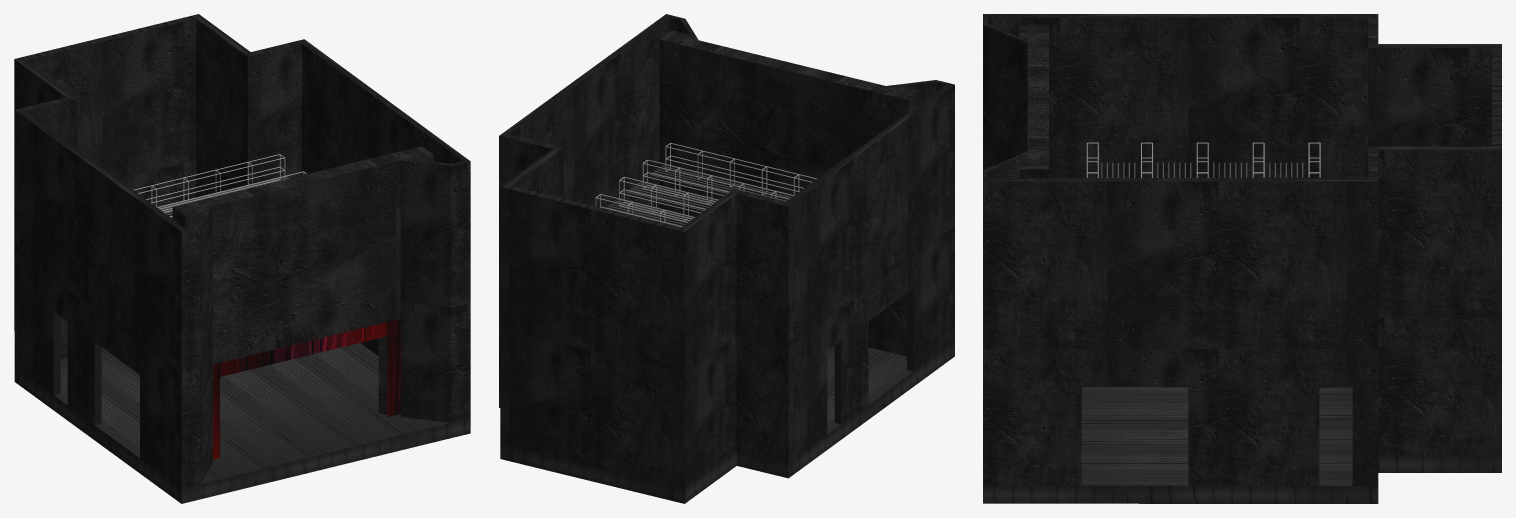
Rendered from theatre-stage.glb.
The picture shows the model from 3 angles, left to right: view 1: azimuth 30°, elevation 25°; view 2: azimuth 150°, elevation 25°; view 3: azimuth 270°, elevation 25°; orthographic projection. The views are drawn at different scales.
Parts seen in each view (by area): view 1: rest -3 0, rest 0 2, rest -1 2, floor -2 1, rest 2 3, rest -1 -4, rest 1 2, rest 0 -4, rest 2 -1, rest -3 1, rest -3 2, rest 1 -3 (+23 smaller); view 2: rest -1 -4, rest 0 -4, rest -3 0, rest -3 -3, rest -1 2, rest -3 2, rest -3 1, rest 2 -1, rest 0 2, rest -2 -4, rest -2 -3, rest -3 -2 (+21 smaller); view 3: rest 2 0, rest -3 0, rest 2 -1, rest 1 -3, rest 2 2, rest 1 -4, rest 2 1, floor 1 -1, rest -3 1, rest -3 -2, rest -2 -4, rest -2 -3 (+14 smaller).
Boxes of the visible parts, bbox=[...] form: rest -3 0: bbox=[15, 110, 181, 425]; rest 0 2: bbox=[213, 160, 400, 356]; rest -1 2: bbox=[213, 206, 399, 368]; floor -2 1: bbox=[54, 372, 450, 483]; rest 2 3: bbox=[400, 161, 470, 437]; rest -1 -4: bbox=[26, 19, 195, 171]; rest 1 2: bbox=[357, 160, 450, 417]; rest 0 -4: bbox=[109, 19, 195, 217]; rest 2 -1: bbox=[302, 44, 462, 355]; rest -3 1: bbox=[16, 232, 181, 503]; rest -3 2: bbox=[140, 207, 205, 488]; rest 1 -3: bbox=[216, 44, 301, 194]; rest -1 -4: bbox=[500, 232, 684, 503]; rest 0 -4: bbox=[500, 187, 684, 488]; rest -3 0: bbox=[788, 85, 954, 404]; rest -3 -3: bbox=[736, 194, 788, 478]; rest -1 2: bbox=[703, 50, 862, 182]; rest -3 2: bbox=[868, 84, 954, 370]; rest -3 1: bbox=[792, 85, 954, 475]; rest 2 -1: bbox=[510, 17, 668, 201]; rest 0 2: bbox=[702, 50, 810, 208]; rest -2 -4: bbox=[684, 194, 736, 503]; rest -2 -3: bbox=[684, 195, 736, 503]; rest -3 -2: bbox=[788, 208, 827, 462]; rest 2 0: bbox=[983, 181, 1377, 386]; rest -3 0: bbox=[988, 14, 1367, 177]; rest 2 -1: bbox=[988, 177, 1378, 503]; rest 1 -3: bbox=[1368, 150, 1501, 472]; rest 2 2: bbox=[983, 169, 1081, 485]; rest 1 -4: bbox=[1378, 151, 1501, 472]; rest 2 1: bbox=[983, 181, 1371, 503]; floor 1 -1: bbox=[1081, 387, 1352, 503]; rest -3 1: bbox=[988, 18, 1193, 177]; rest -3 -2: bbox=[1278, 18, 1367, 177]; rest -2 -4: bbox=[1430, 48, 1491, 146]; rest -2 -3: bbox=[1368, 48, 1429, 146].
Size of the model in its own units: 18.06 by 16.21 by 23.64.
Materials: 7 (4 with a texture image).
